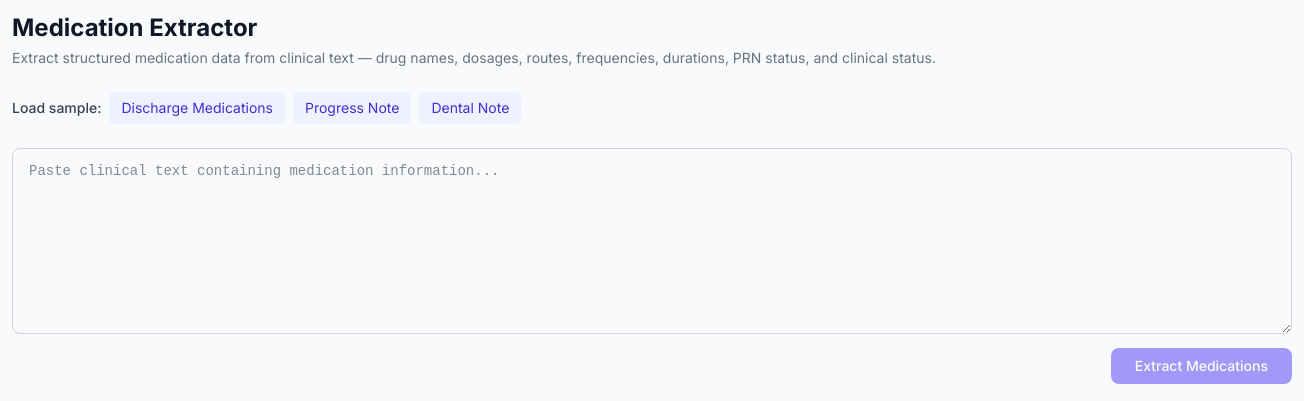
Test: MedicationExtractor › enables the extract button after loading a sample
The width and height of the screenshot is (1304, 401).
Click the button "Discharge Medications".
click(197, 108)  # box [109, 92, 285, 124]
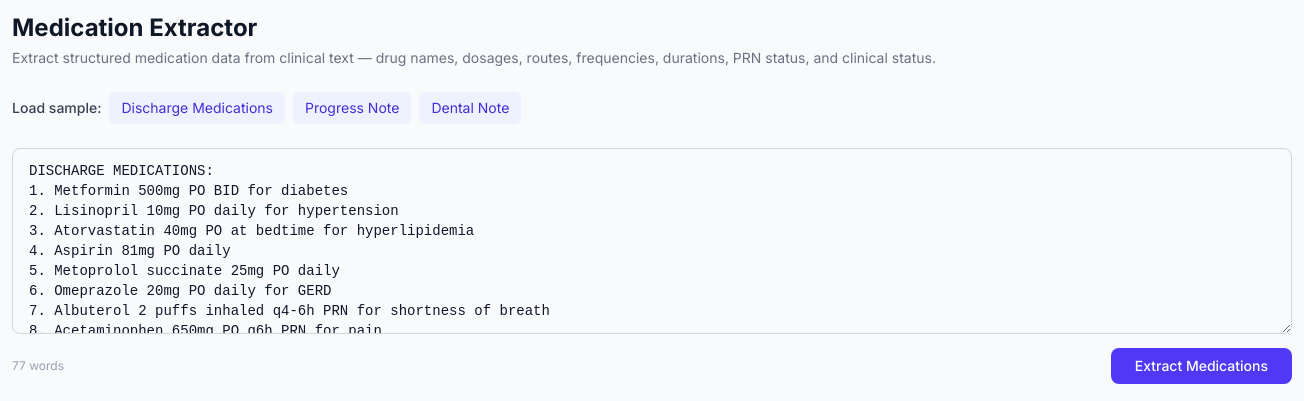
expect the button "Extract Medications" is enabled: met, box [1111, 348, 1292, 384]
